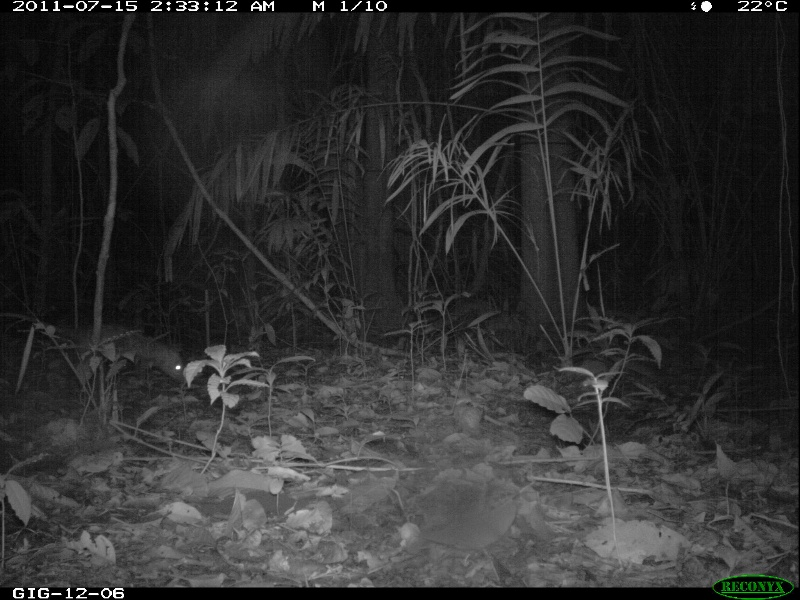opossum: (25, 324, 187, 382)
